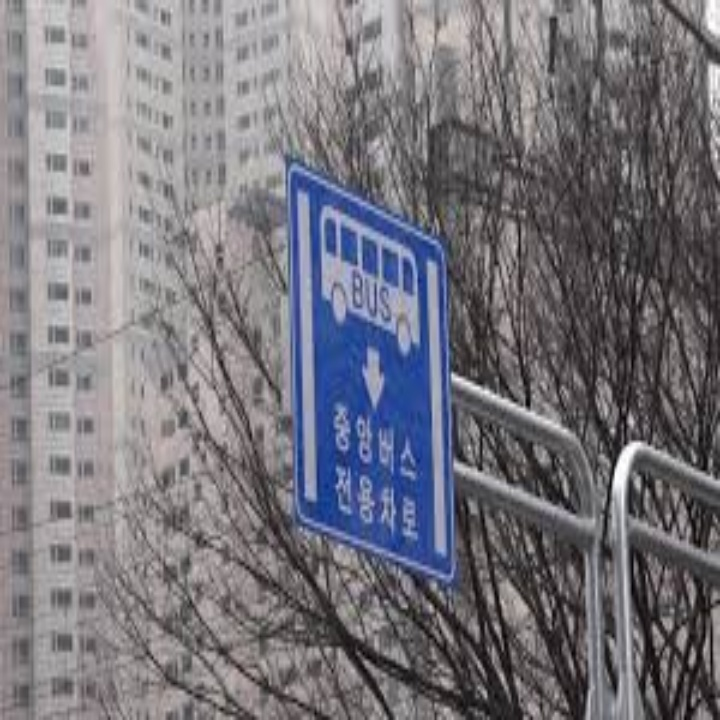bus: (311, 196, 427, 360)
